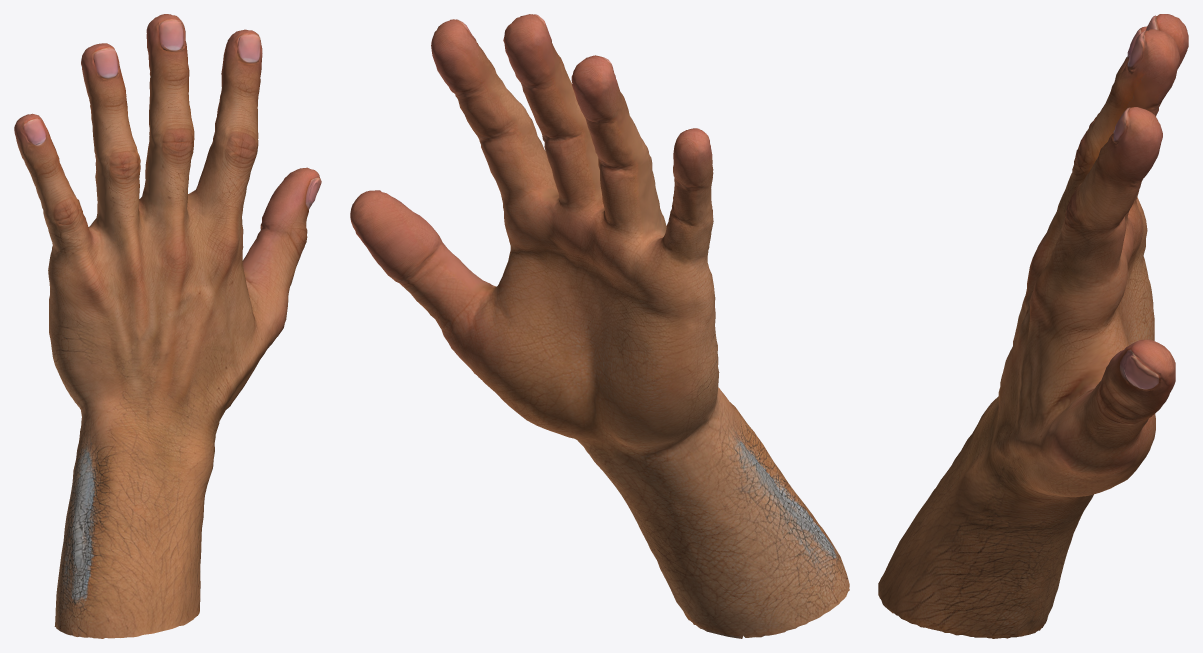
File: story_hand.glb
The picture shows the model from 3 angles, left to right: view 1: azimuth 30°, elevation 25°; view 2: azimuth 150°, elevation 25°; view 3: azimuth 270°, elevation 25°; orthographic projection. The views are drawn at different scales.
Parts seen in each view (by area): view 1: tripo_node_ca50f61b-7ebb-48e8-9f3c-68f85_0; view 2: tripo_node_ca50f61b-7ebb-48e8-9f3c-68f85_0; view 3: tripo_node_ca50f61b-7ebb-48e8-9f3c-68f85_0.
Boxes of the visible parts, <box> form: tripo_node_ca50f61b-7ebb-48e8-9f3c-68f85_0: <box>14,14,321,638</box>; tripo_node_ca50f61b-7ebb-48e8-9f3c-68f85_0: <box>350,14,849,638</box>; tripo_node_ca50f61b-7ebb-48e8-9f3c-68f85_0: <box>878,14,1188,638</box>.
Bounding box in the file's own units: 0.6634 × 1 × 0.4286.
1 material, 1 textured.
